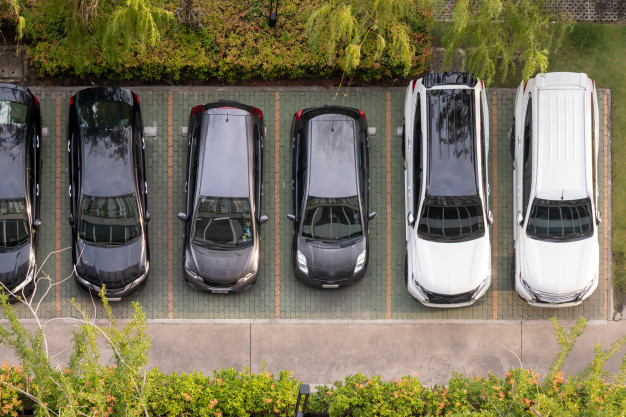car: (395, 69, 499, 314), (509, 70, 606, 312), (60, 86, 158, 306), (176, 97, 271, 298), (287, 104, 378, 295)
